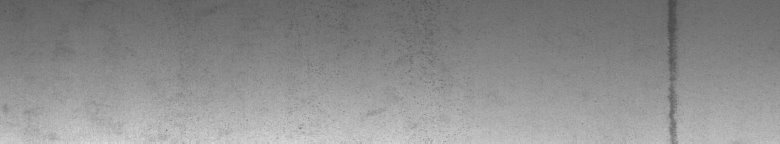hd: (664, 4, 681, 136)
